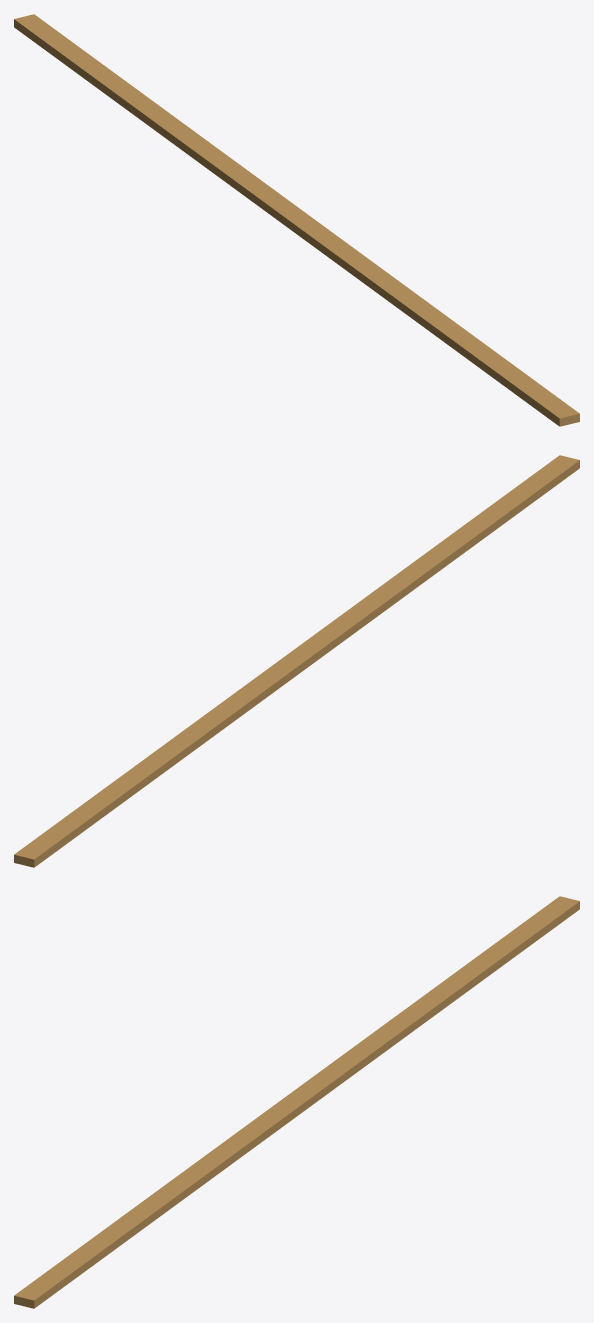
The picture shows the model from 3 angles, top to bottom: view 1: azimuth 30°, elevation 25°; view 2: azimuth 150°, elevation 25°; view 3: azimuth 330°, elevation 25°; orthographic projection.
Visible parts, largest first — view 1: RUN-093-S00-ribbon; view 2: RUN-093-S00-ribbon; view 3: RUN-093-S00-ribbon.
Part boxes in pixels (bbox=[...]): RUN-093-S00-ribbon: bbox=[14, 14, 579, 426]; RUN-093-S00-ribbon: bbox=[14, 455, 579, 867]; RUN-093-S00-ribbon: bbox=[14, 896, 579, 1308].
Bounding box in the file's own units: 0.09 × 0.035 × 4.21.
